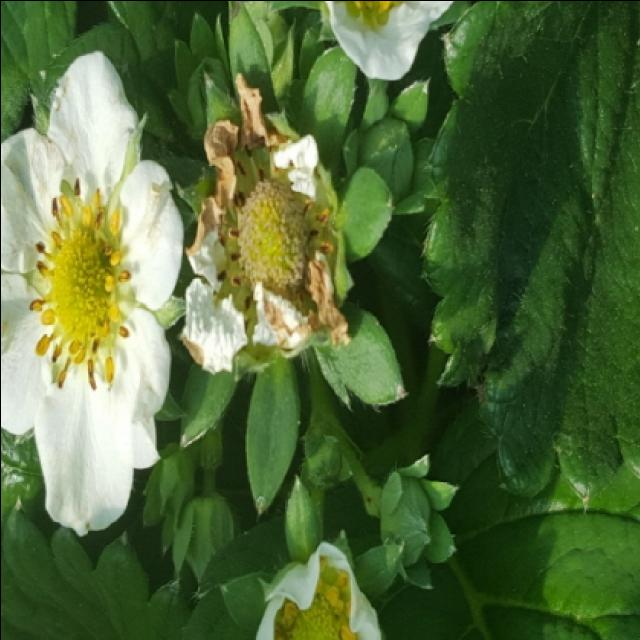Blossom Blight: (211, 136, 333, 333), (25, 175, 134, 392)
